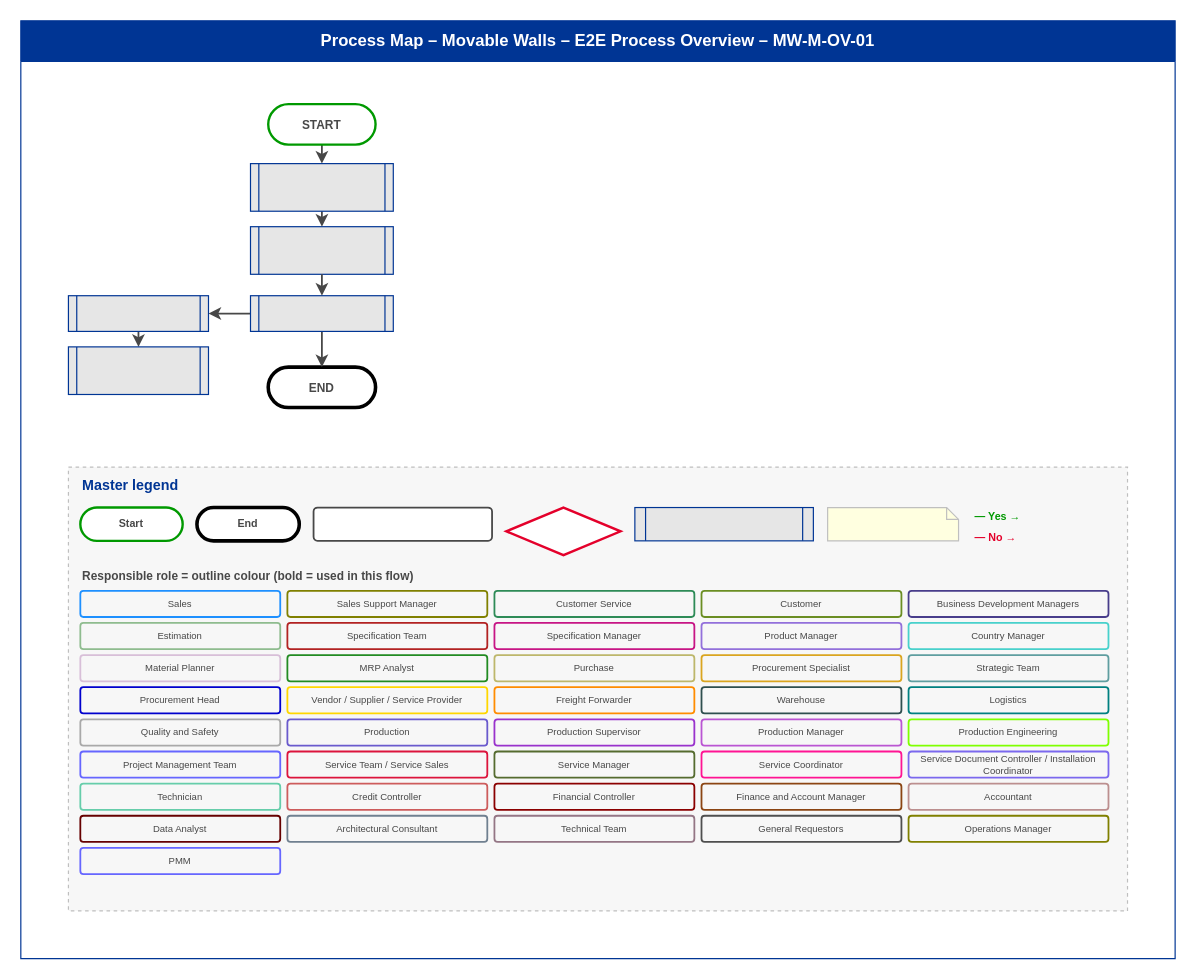
Some shapes in this 1196 by 979 pixel diagram are drawn without their labels. The centre of each missing label's shape, as x and y in pixels:
"Activity (outline = role)" belongs at point 402,523.
"Decision" belongs at point 563,531.
"Enquiry and Quotation Finalization Ref: MW-M-EQ-01" belongs at point 321,186.
"Linked process (Ref ID)" belongs at point 723,523.
"Note / checklist" belongs at point 892,523.
"Order-to-Invoice Ref: MW-M-OI-01" belongs at point 321,313.
"PO Creation & Expedition Ref: MW-S-PE-01" belongs at point 137,370.
"PR Validation Ref: MW-S-PR-01" belongs at point 137,313.
"Sales Order & Technical Validation Ref: MW-M-ST-01" belongs at point 321,250.
